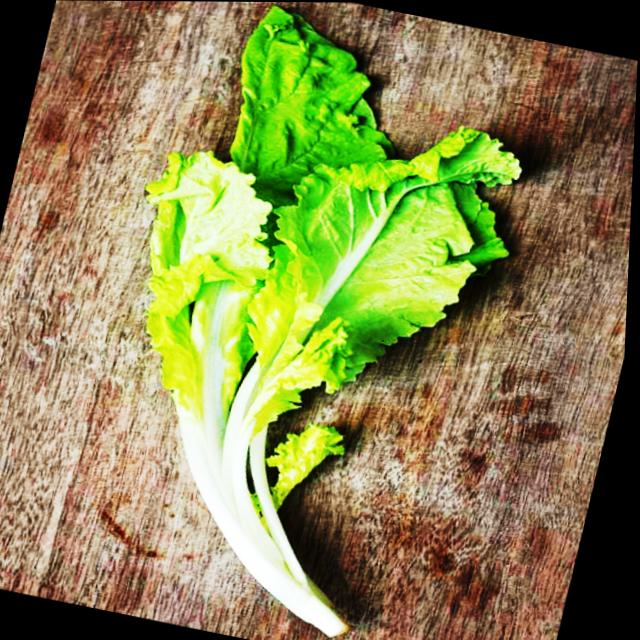chinese_cabbage: (50, 26, 561, 640)
